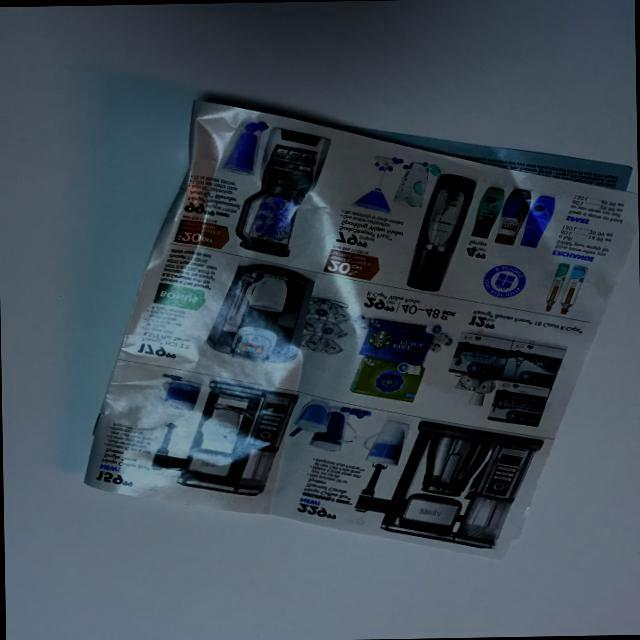paper: (66, 78, 640, 592)
